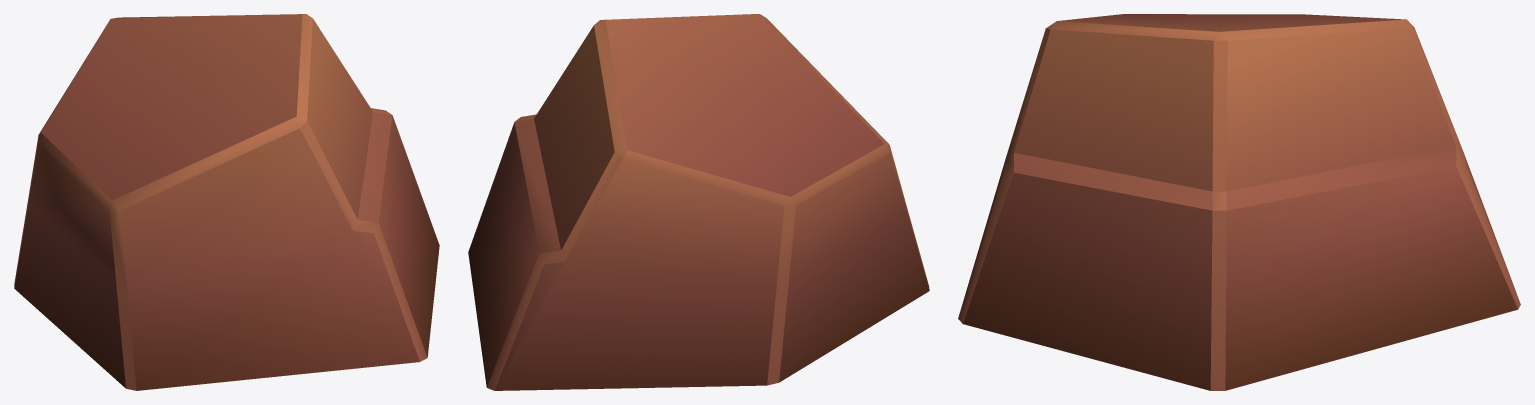
Rendered from Rock-2-4.fbx.
3 views of the same model, side by side, from view 1: azimuth 30°, elevation 25°; view 2: azimuth 150°, elevation 25°; view 3: azimuth 270°, elevation 25° (orthographic). The views are drawn at different scales.
Visible parts, largest first — view 1: Rock-2-4; view 2: Rock-2-4; view 3: Rock-2-4.
Part boxes in pixels (x1,y1,x2,y2): Rock-2-4: (14, 14, 439, 390); Rock-2-4: (468, 14, 929, 390); Rock-2-4: (958, 14, 1520, 390).
Bounding box in the file's own units: 177 × 115 × 205.
